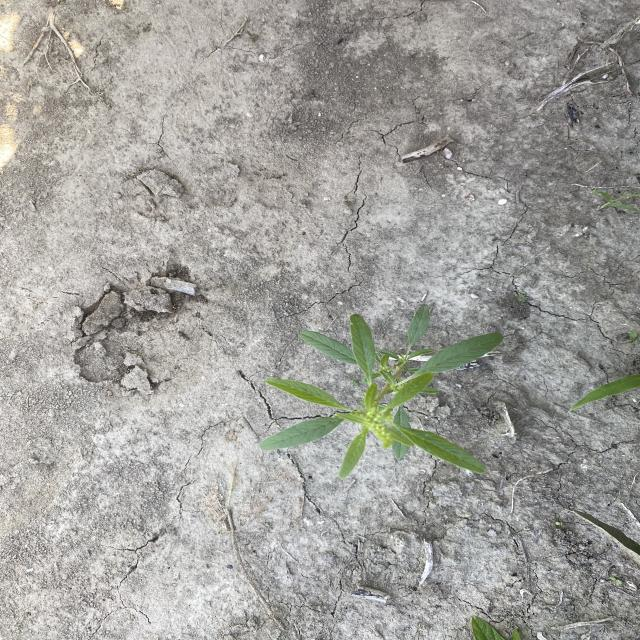Waterhemp: (256, 302, 506, 482)
